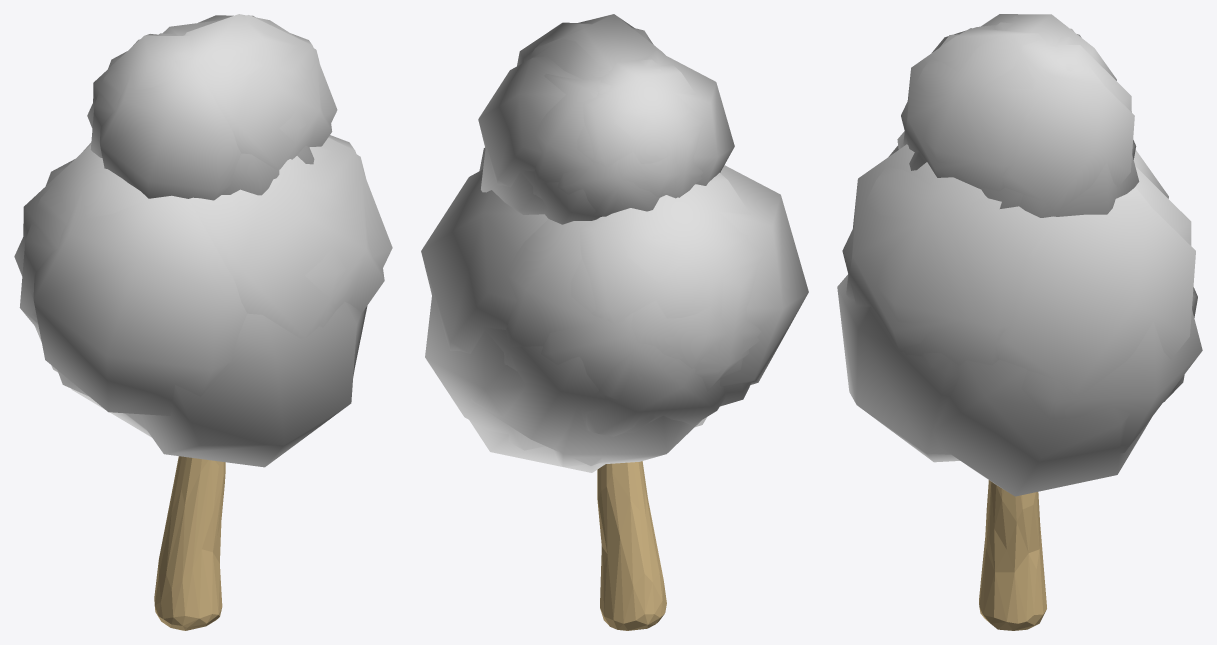
Rendered from tree8.fbx.
3 renders of one model, left to right at view 1: azimuth 30°, elevation 25°; view 2: azimuth 150°, elevation 25°; view 3: azimuth 270°, elevation 25°, orthographic. The views are drawn at different scales.
Parts seen in each view (by area): view 1: Cube.001, Cube.003, Cube; view 2: Cube.001, Cube.003, Cube; view 3: Cube.001, Cube.003, Cube.
Boxes of the visible parts, x1,y1,x2,y2 form: Cube.001: (14, 135, 392, 467); Cube.003: (87, 14, 337, 200); Cube: (154, 456, 225, 630); Cube.001: (421, 148, 808, 472); Cube.003: (478, 14, 734, 224); Cube: (597, 461, 666, 630); Cube.001: (837, 144, 1202, 496); Cube.003: (897, 14, 1139, 217); Cube: (979, 480, 1046, 630).
Size of the model in its own units: 727 by 1262 by 678.
